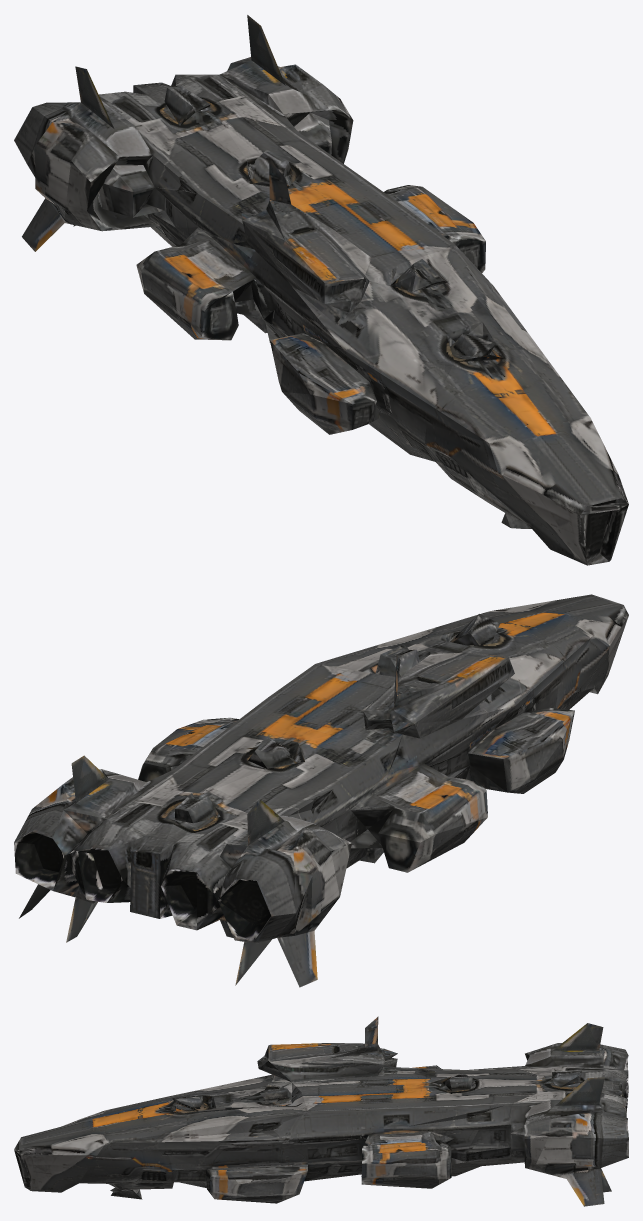
File: hard-1000.glb
3 views of the same model, one above another, from view 1: azimuth 30°, elevation 25°; view 2: azimuth 150°, elevation 25°; view 3: azimuth 270°, elevation 25° (orthographic). The views are drawn at different scales.
Parts seen in each view (by area): view 1: Low; view 2: Low; view 3: Low.
Boxes of the visible parts, left/top/right/bottom form: Low: left=14, top=15, right=628, bottom=565; Low: left=14, top=594, right=628, bottom=987; Low: left=14, top=1016, right=628, bottom=1206.
Bounding box in the file's own units: 0.356 × 0.2823 × 0.9793.
1 material, 1 textured.
